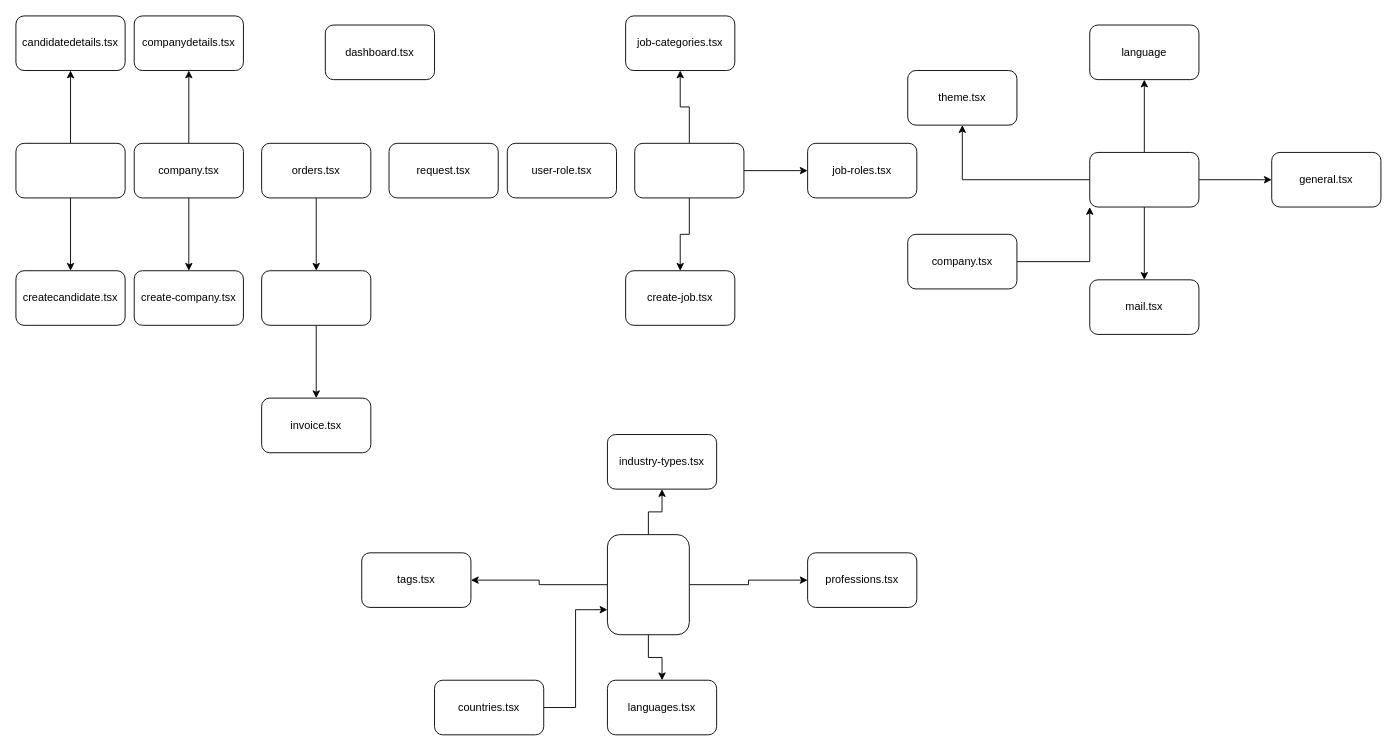
This 1397x751 diagram has some shape labels left out. Here are the shapes that lost their labels. From the top down, the centre of each, then its label:
At (70,170): "candidate.tsx".
At (689,170): "jobs.tsx".
At (1144,179): "settings.tsx".
At (316,297): "order-details.tsx".
At (648,584): "attributes".
